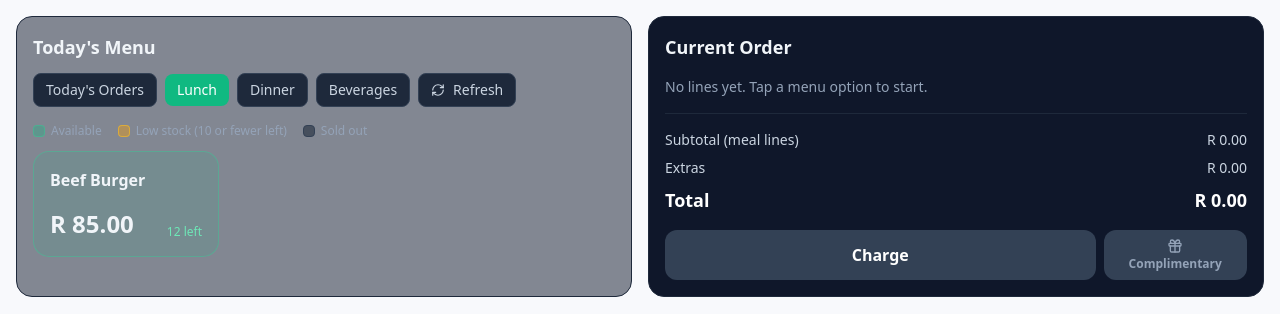
Test: menu refresh failures › doesn't show another period's items when a new period fails to load
The width and height of the screenshot is (1280, 314).
Expected: the text "Beef Burger" is shown, [50,169,145,191]
Step 1. Click the button "Dinner" → (272, 90), box [237,73,308,107]
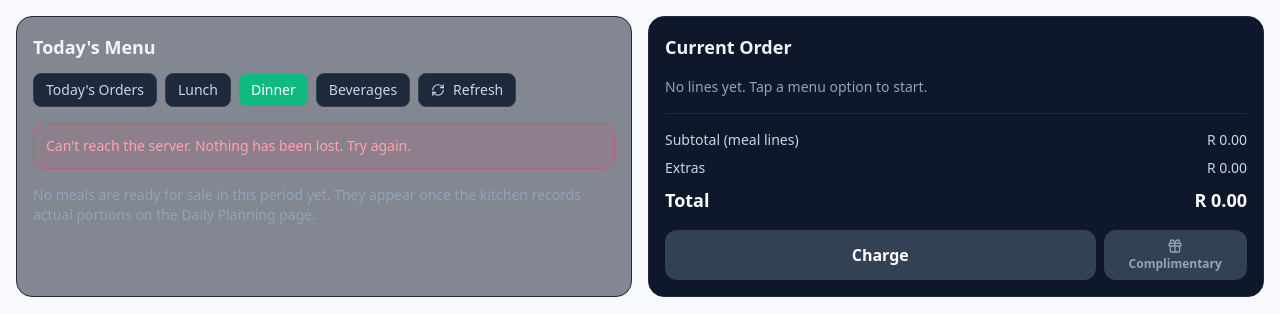
Expected: the text "Can't reach the server. Nothing has been lost. Try again." is shown, [33,123,615,169]
Expected: the button "Beef Burger" is gone
